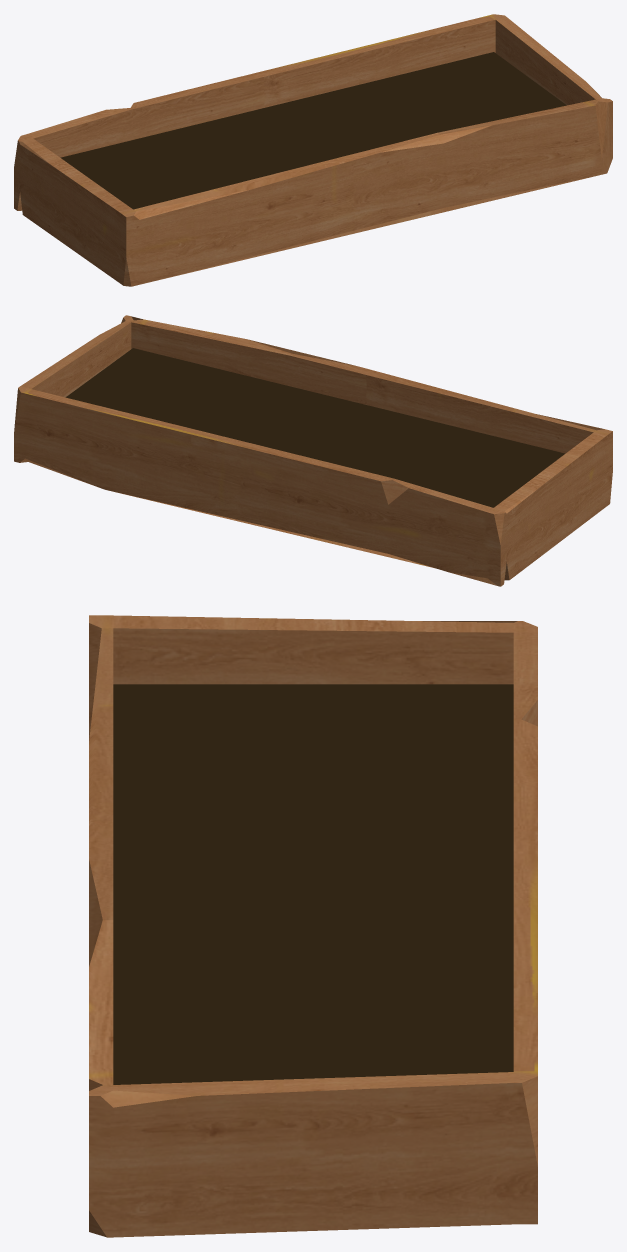
File: long.fbx
The picture shows the model from 3 angles, top to bottom: view 1: azimuth 30°, elevation 25°; view 2: azimuth 150°, elevation 25°; view 3: azimuth 270°, elevation 25°; orthographic projection. The views are drawn at different scales.
Visible parts, largest first — view 1: Long bed soil; view 2: Long bed soil; view 3: Long bed soil.
Part boxes in pixels (x1,y1,x2,y2): Long bed soil: (14,14,612,286); Long bed soil: (14,315,612,586); Long bed soil: (89,615,537,1237).
Size of the model in its own units: 265 by 40.18 by 106.
2 materials, 1 textured.
